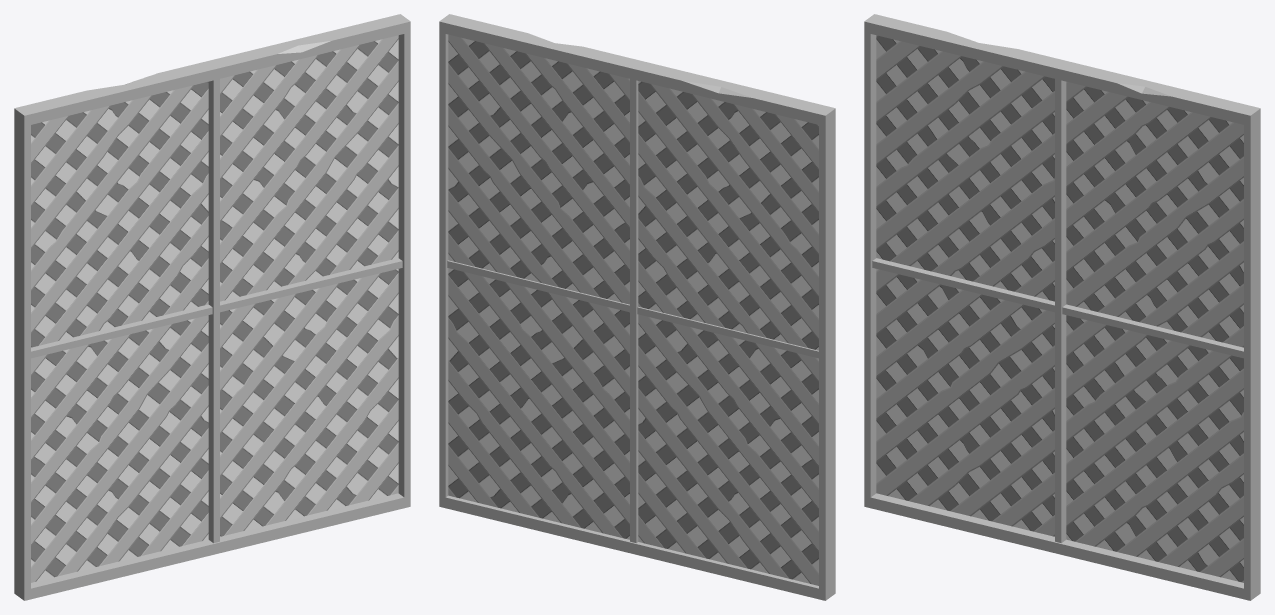
Rendered from SM_Bld_Trellis_01.fbx.
The picture shows the model from 3 angles, left to right: view 1: azimuth 30°, elevation 25°; view 2: azimuth 150°, elevation 25°; view 3: azimuth 330°, elevation 25°; orthographic projection.
Visible parts, largest first — view 1: SM_Bld_Trellis_01; view 2: SM_Bld_Trellis_01; view 3: SM_Bld_Trellis_01.
Part boxes in pixels (left/top/right/bottom): SM_Bld_Trellis_01: left=14, top=14, right=410, bottom=600; SM_Bld_Trellis_01: left=439, top=14, right=835, bottom=600; SM_Bld_Trellis_01: left=864, top=14, right=1260, bottom=600.
Size of the model in its own units: 250 by 300 by 11.51.
